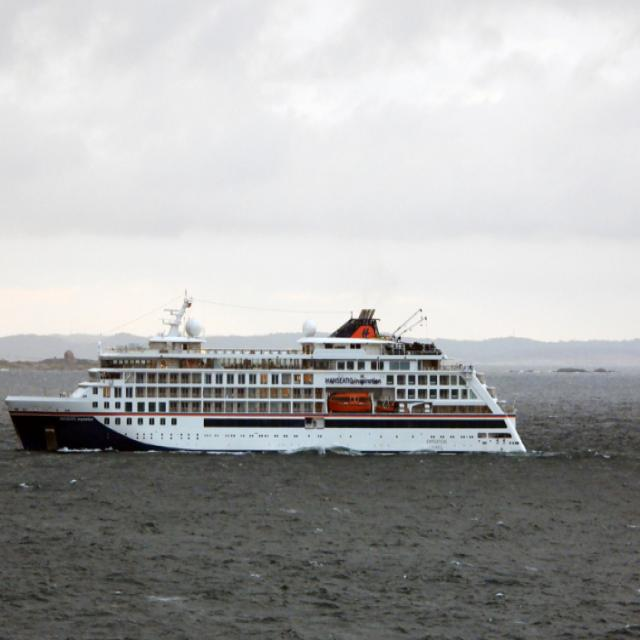cruises: (3, 281, 530, 470)
